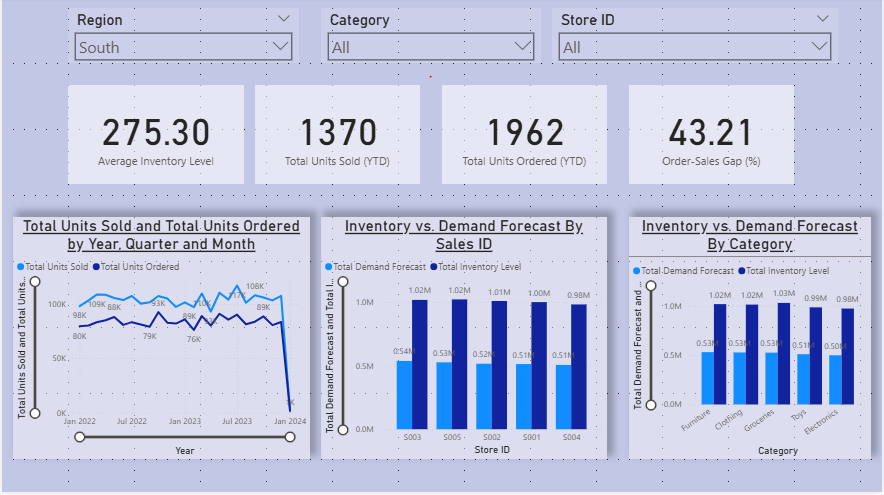

Layout of this report page (visuals, bound fields, positions):
{"tool":"powerbi","page":{"name":"Inventory Management","canvas":[1280,720],"ordinal":1},"visuals":[{"type":"card","fields":{"Values":["Table.Average Inventory Level"]},"box":[96,128,256,144],"z":0},{"type":"lineChart","fields":{"Y":["Table.Total Units Sold","Table.Total Units Ordered"],"Category":["Date.Date.Variation.Date Hierarchy.Year","Date.Date.Variation.Date Hierarchy.Quarter","Date.Date.Variation.Date Hierarchy.Month"]},"box":[16,320,432,352],"z":1000},{"type":"card","fields":{"Values":["Table.Total Units Sold (YTD)"]},"box":[368,128,240,144],"z":2000},{"type":"card","fields":{"Values":["Table.Total Units Ordered (YTD)"]},"box":[640,128,240,144],"z":3000},{"type":"card","fields":{"Values":["Table.Order-Sales Gap (%)"]},"box":[912,128,240,144],"z":4000},{"type":"slicer","fields":{"Values":["retail_store_inventory.Region"]},"box":[96,16,336,80],"z":5000},{"type":"slicer","fields":{"Values":["retail_store_inventory.Category"]},"box":[464,16,320,80],"z":6000},{"type":"slicer","fields":{"Values":["retail_store_inventory.Store ID"]},"box":[800,16,416,80],"z":7000},{"type":"clusteredColumnChart","title":"Inventory vs. Demand Forecast By Sales ID","fields":{"Category":["retail_store_inventory.Store ID"],"Y":["Table.Total Demand Forecast","Table.Total Inventory Level"]},"box":[464,320,416,352],"z":8000},{"type":"clusteredColumnChart","title":"Inventory vs. Demand Forecast By Category","fields":{"Category":["retail_store_inventory.Category"],"Y":["Table.Total Demand Forecast","Table.Total Inventory Level"]},"box":[912,320,352,352],"z":9000}]}

Visuals, with their boxes in screenshot pixels (x1, y1, x2, y2), scaled from the page's 1280x720 canvas onto the 884x495 screenshot:
card - Table.Average Inventory Level: detection(66, 88, 243, 187)
lineChart - Table.Total Units Sold x Table.Total Units Ordered: detection(11, 220, 309, 462)
card - Table.Total Units Sold (YTD): detection(254, 88, 420, 187)
card - Table.Total Units Ordered (YTD): detection(442, 88, 608, 187)
card - Table.Order-Sales Gap (%): detection(630, 88, 796, 187)
slicer - retail_store_inventory.Region: detection(66, 11, 298, 66)
slicer - retail_store_inventory.Category: detection(320, 11, 541, 66)
slicer - retail_store_inventory.Store ID: detection(552, 11, 840, 66)
"Inventory vs. Demand Forecast By Sales ID" clusteredColumnChart: detection(320, 220, 608, 462)
"Inventory vs. Demand Forecast By Category" clusteredColumnChart: detection(630, 220, 873, 462)
